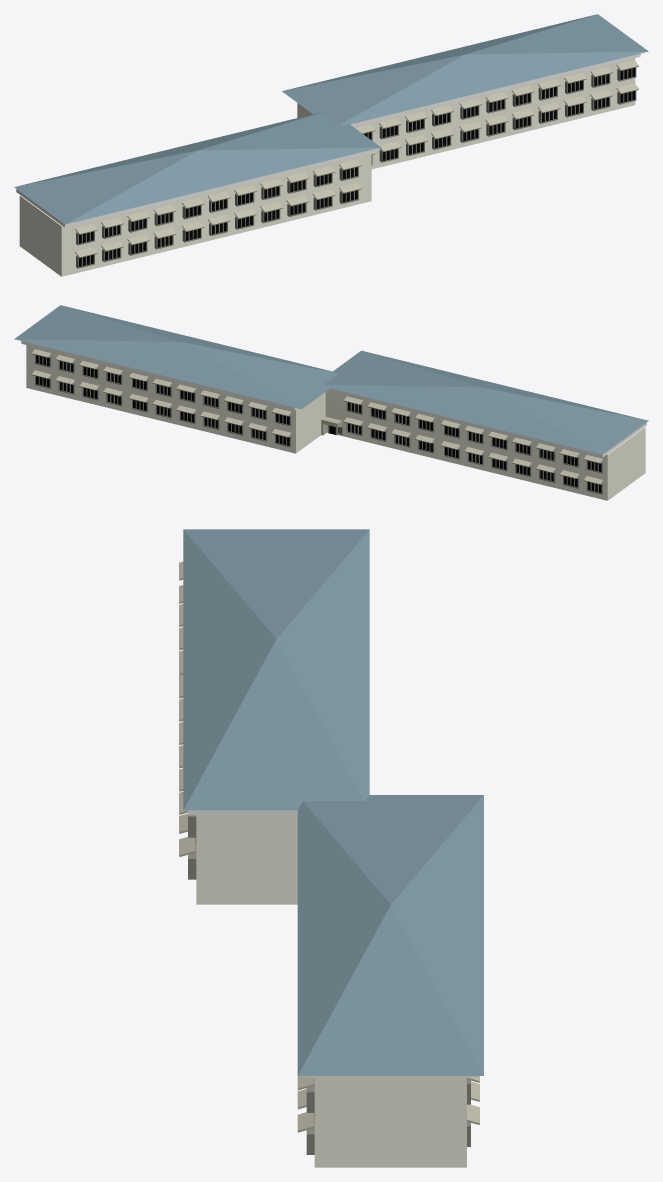
The model's file is CADENA.glb.
3 views of the same model, one above another, from view 1: azimuth 30°, elevation 25°; view 2: azimuth 150°, elevation 25°; view 3: azimuth 270°, elevation 25° (orthographic). The views are drawn at different scales.
Visible parts, largest first — view 1: cube.014; view 2: cube.014; view 3: cube.014.
Part boxes in pixels (x1,y1,x2,y2): cube.014: [14, 14, 648, 276]; cube.014: [14, 305, 648, 500]; cube.014: [179, 529, 483, 1167].
Bounding box in the file's own units: 19.09 × 2.12 × 4.5.
8 materials, 7 textured.
